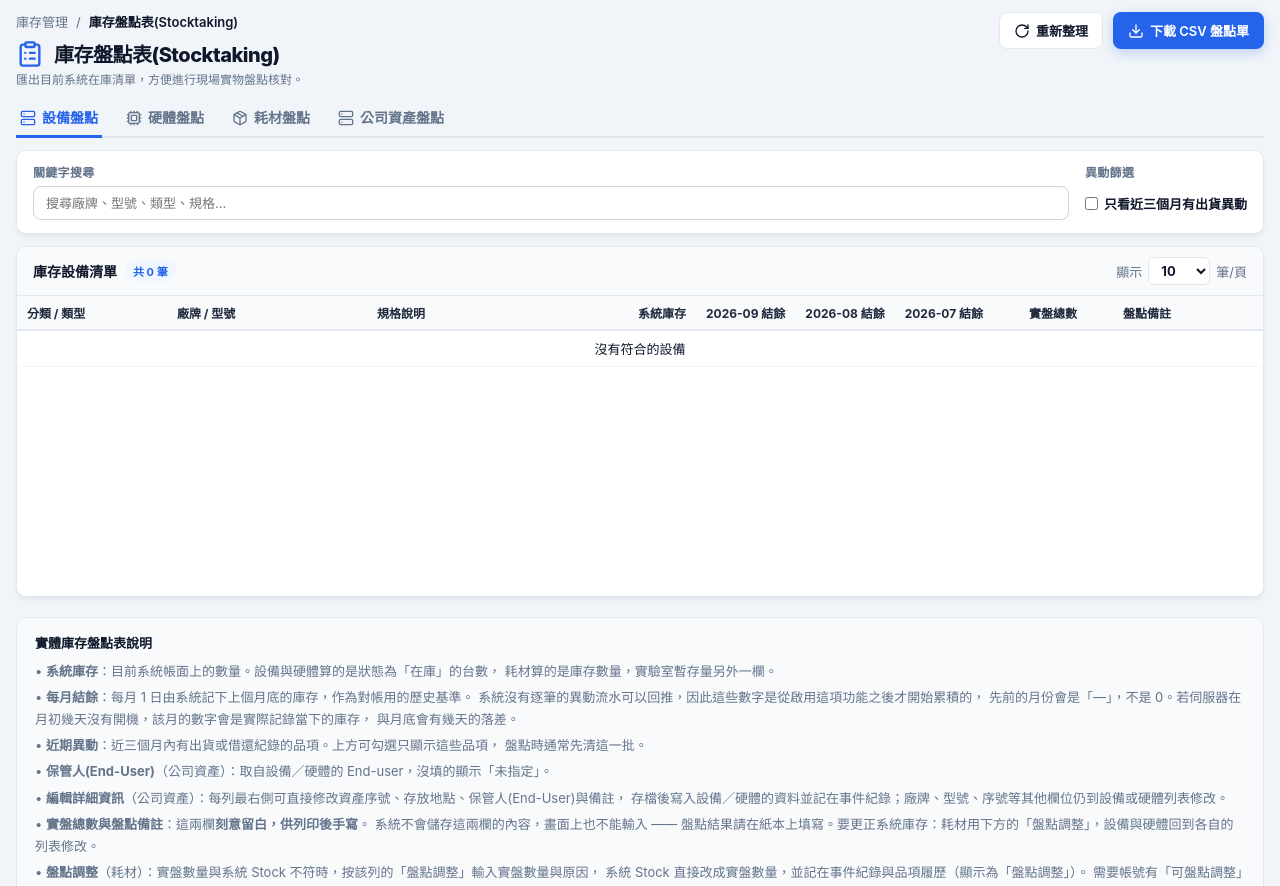
盤點表的月結餘欄位 › 每個有紀錄的月份各一欄，由新到舊
This screenshot has width=1280, height=886.
Click the text "耗材盤點" at (271, 118), box [232,109,310,126]
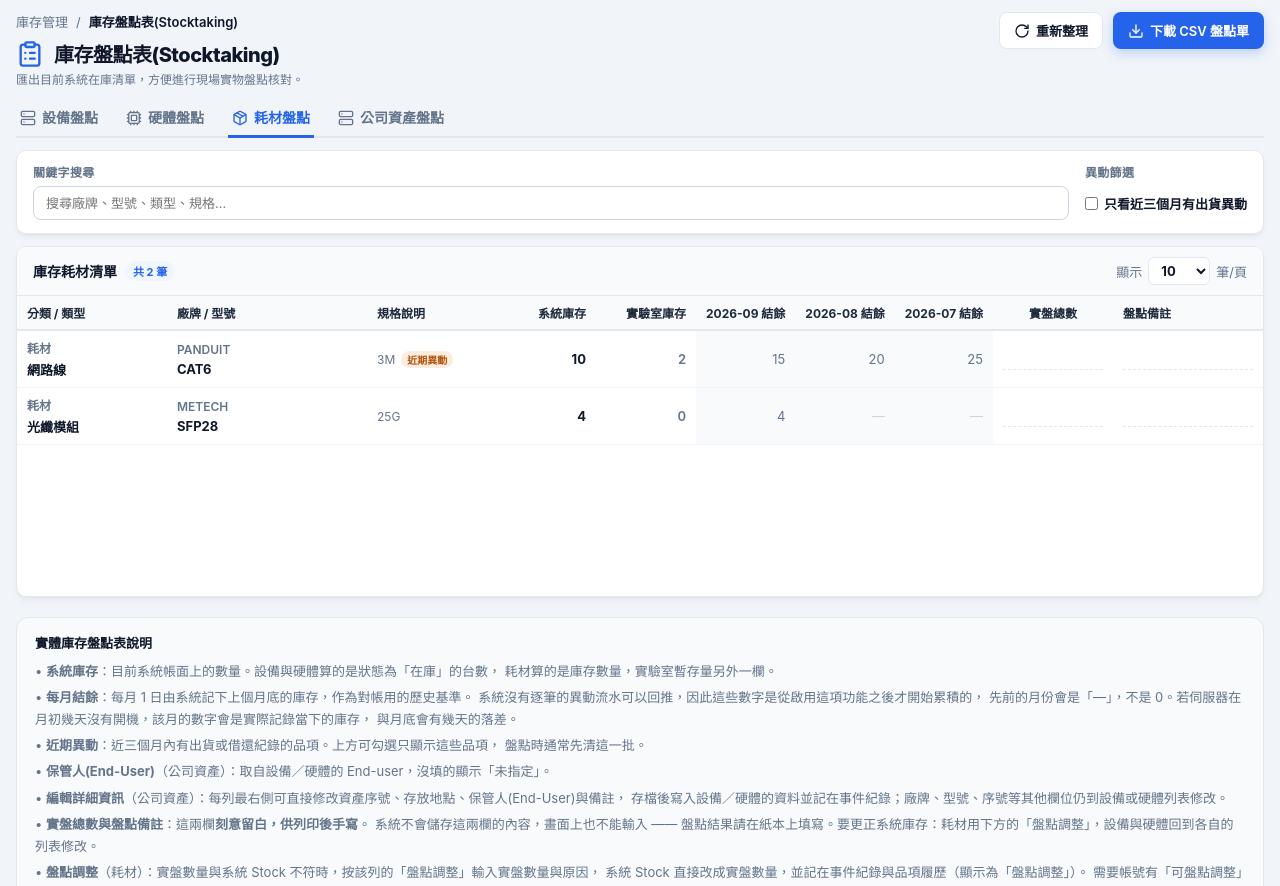
Check: the column heading "2026-09 結餘" is shown, box [696,296,795,330]
Check: the text "PANDUIT" is shown, box [177,342,230,356]
